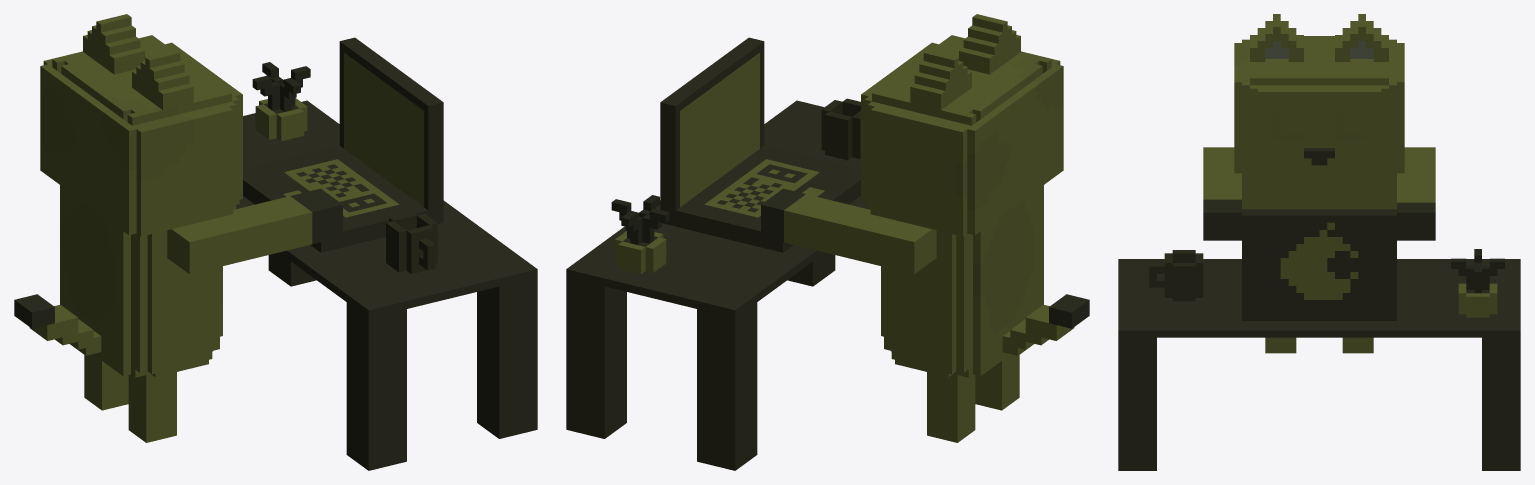
Rendered from cat.obj.
3 renders of one model, left to right at view 1: azimuth 30°, elevation 25°; view 2: azimuth 150°, elevation 25°; view 3: azimuth 270°, elevation 25°, orthographic. The views are drawn at different scales.
Bounding box in the file's own units: 5.2 × 4.7 × 5.2.
